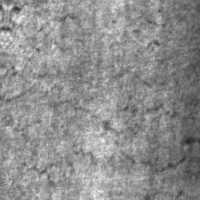crazing: (0, 90, 200, 189), (3, 3, 164, 88)
